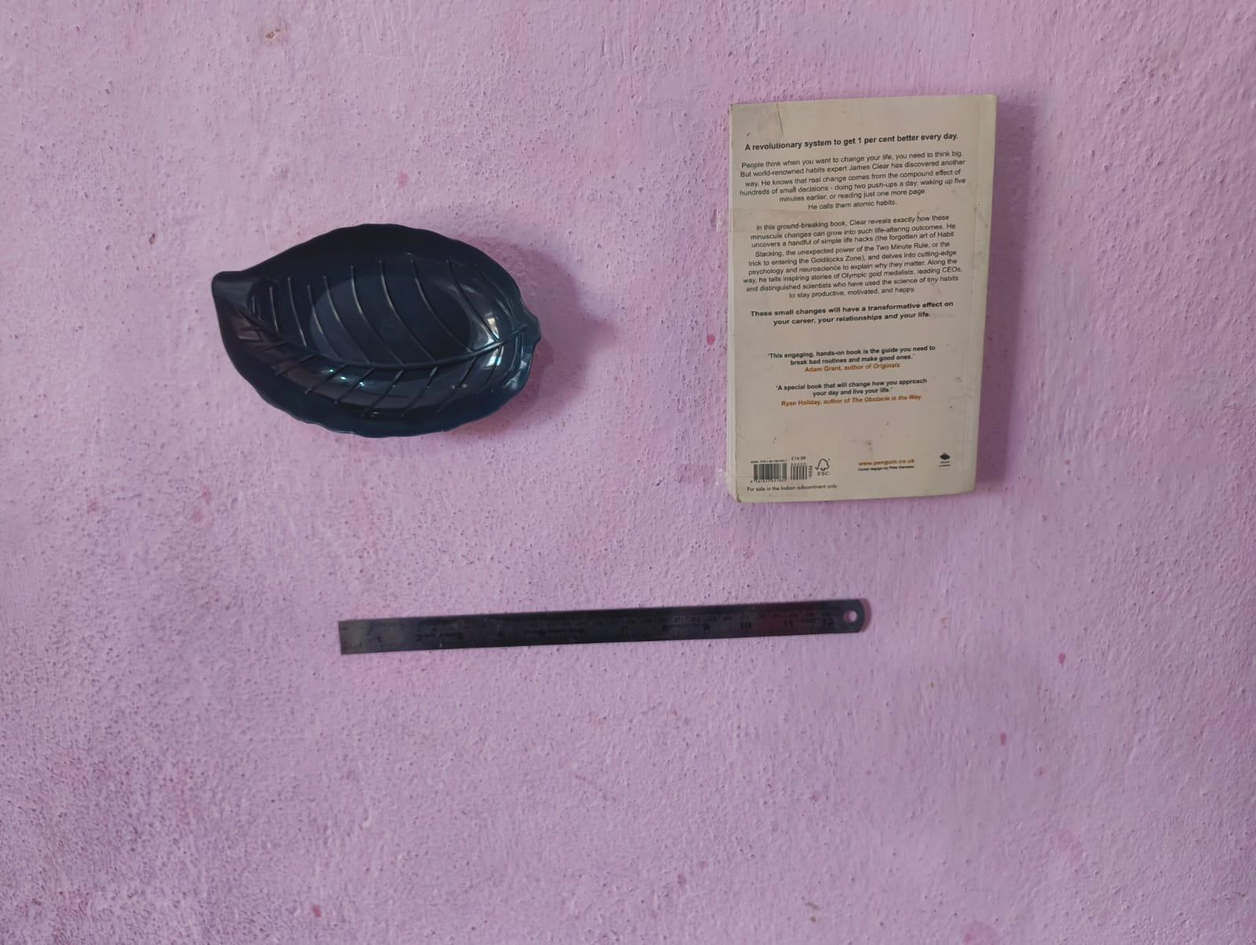Book: (716, 81, 997, 507)
plate: (209, 209, 548, 442)
scale: (330, 592, 915, 662)
